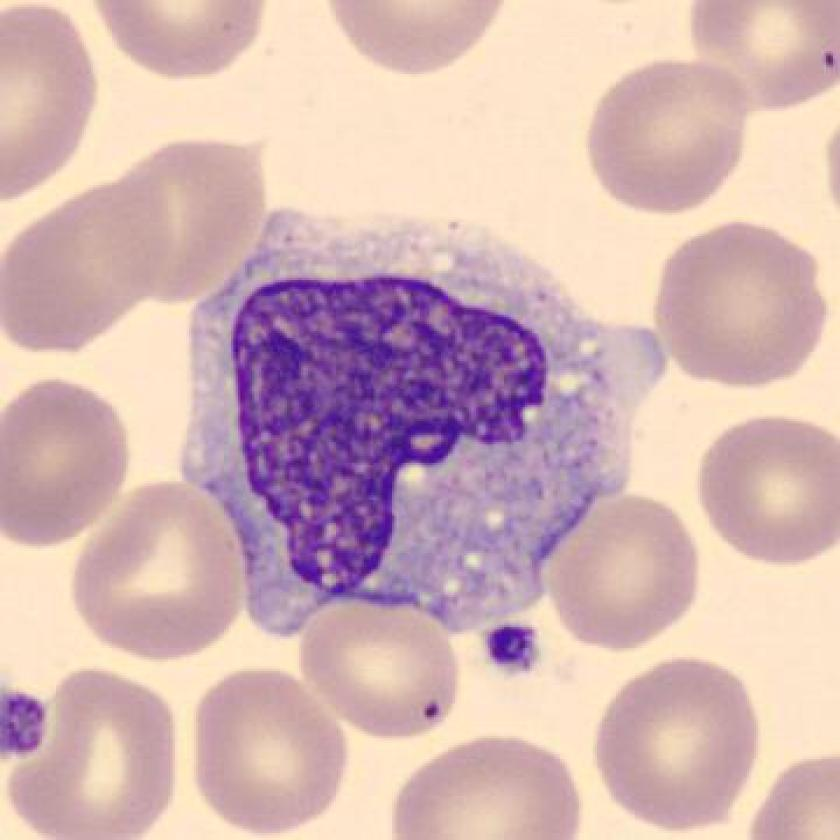monocyte: (153, 188, 692, 649)
